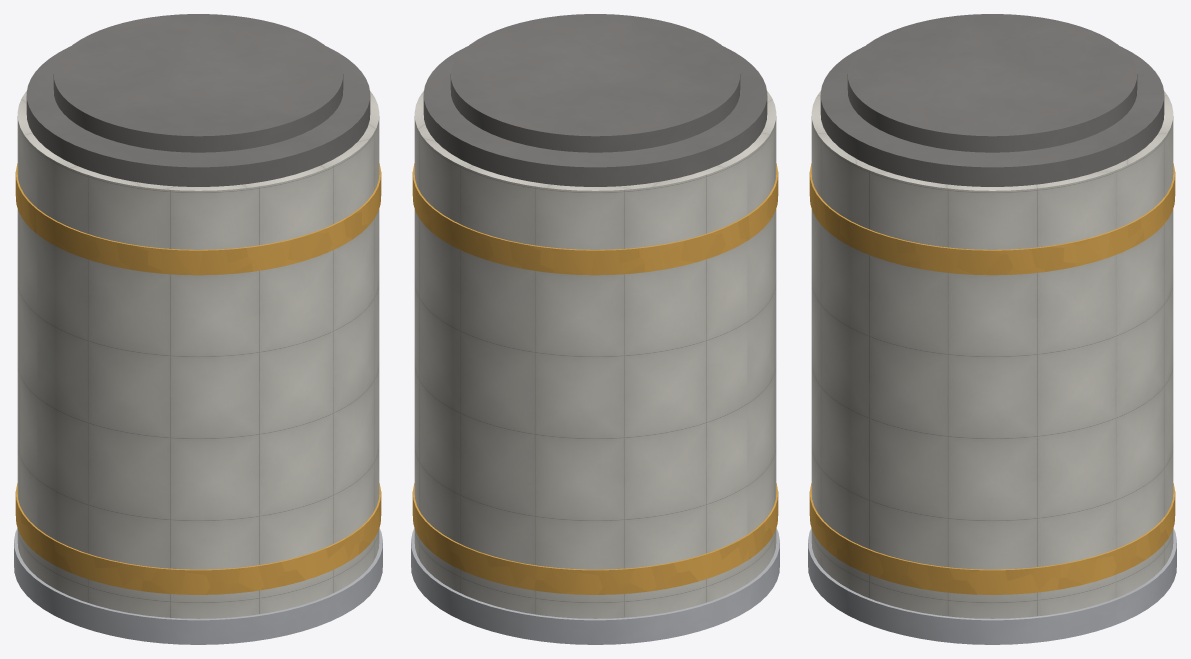
File: robo03_deployable_boom_s.glb
3 views of the same model, side by side, from view 1: azimuth 30°, elevation 25°; view 2: azimuth 150°, elevation 25°; view 3: azimuth 270°, elevation 25° (orthographic).
Visible parts, largest first — view 1: canister, boom_tip, canister_bands, boom_lid, base; view 2: canister, boom_tip, canister_bands, boom_lid, base; view 3: canister, boom_tip, canister_bands, boom_lid, base.
Boxes of the visible parts, x1,y1,x2,y2 form: canister: [17, 90, 379, 618]; boom_tip: [53, 14, 343, 152]; canister_bands: [15, 163, 381, 594]; boom_lid: [26, 46, 370, 186]; base: [14, 528, 382, 644]; canister: [414, 90, 776, 618]; boom_tip: [450, 14, 740, 152]; canister_bands: [412, 163, 778, 594]; boom_lid: [423, 46, 767, 186]; base: [411, 528, 779, 644]; canister: [811, 90, 1173, 618]; boom_tip: [847, 14, 1137, 152]; canister_bands: [809, 163, 1175, 594]; boom_lid: [820, 46, 1164, 186]; base: [808, 528, 1176, 644].
Size of the model in its own units: 1.02 by 1.5 by 1.02.
Materials: 4 (4 with a texture image).
